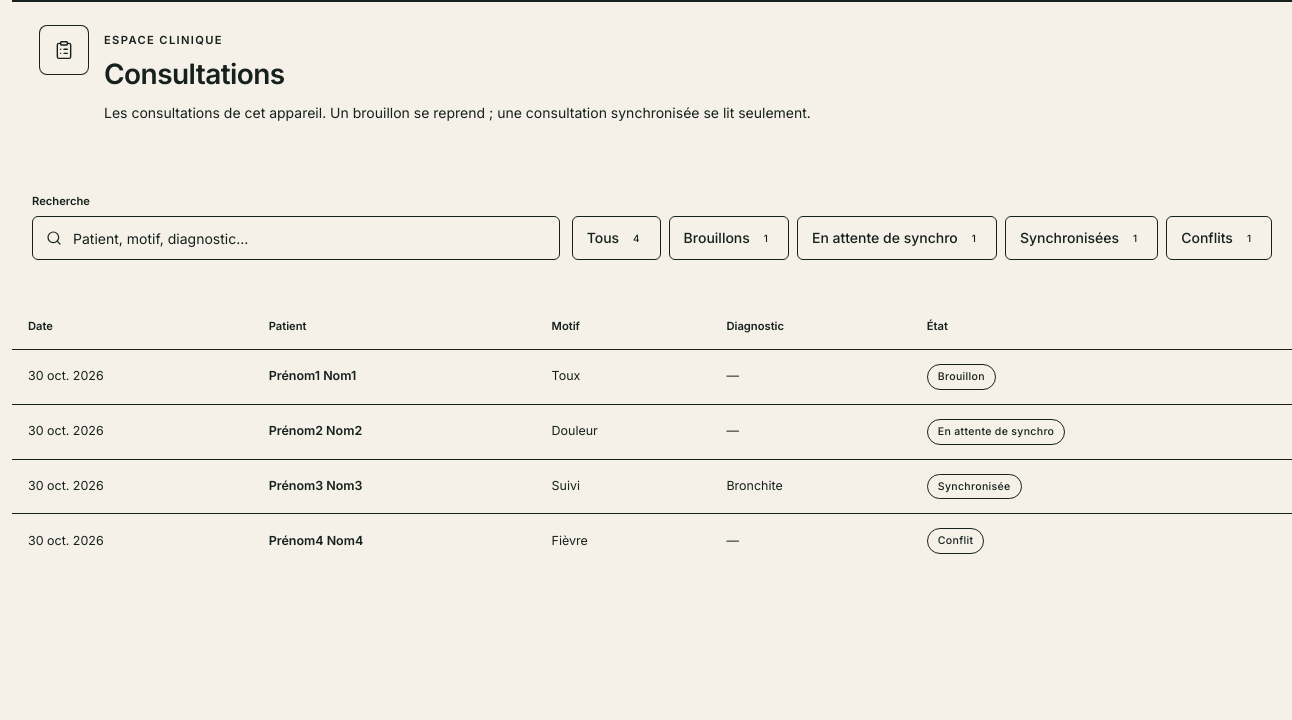
ConsultationsPage › filters by state and by search
Expected: the table is shown, x1=12 y1=304 x2=1291 y2=568
Click the button "Conflits 1" at (1219, 238), box x1=1166 y1=216 x2=1272 y2=260
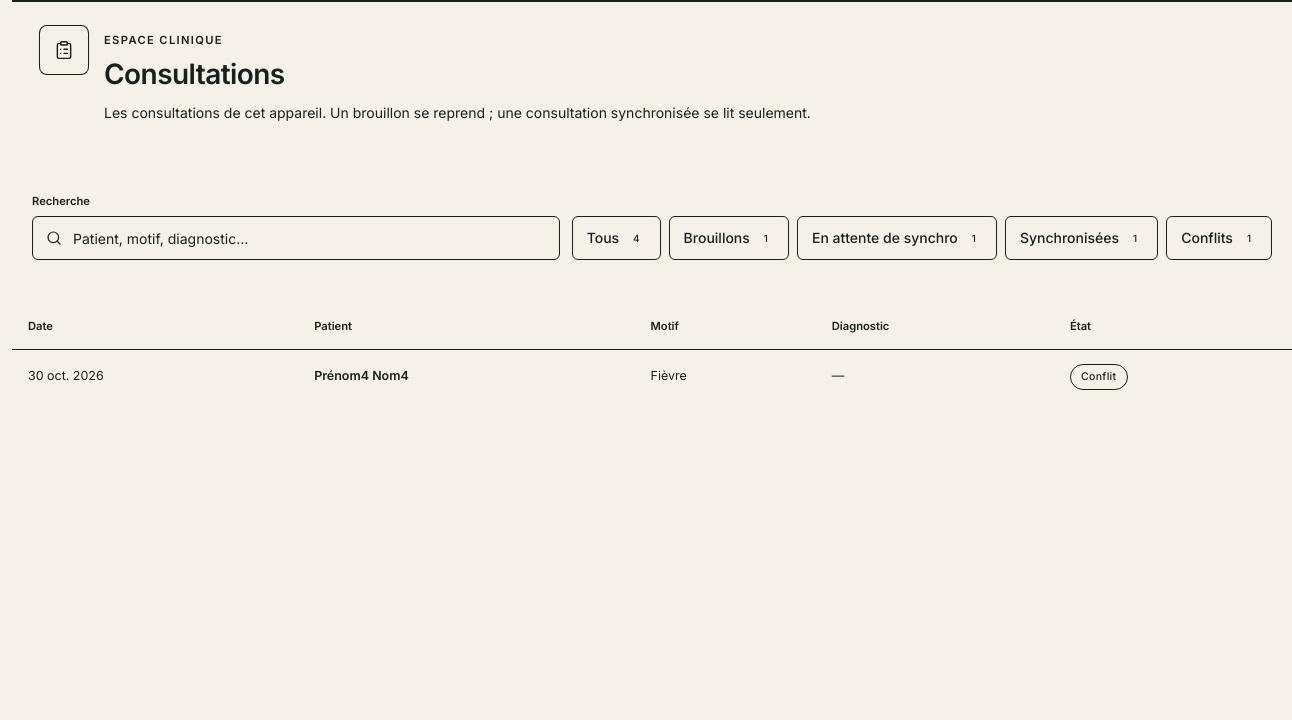
Expected: the text "Conflit" is shown, x1=1070 y1=364 x2=1128 y2=390
Click the button "Tous 4" at (616, 238), box x1=572 y1=216 x2=661 y2=260
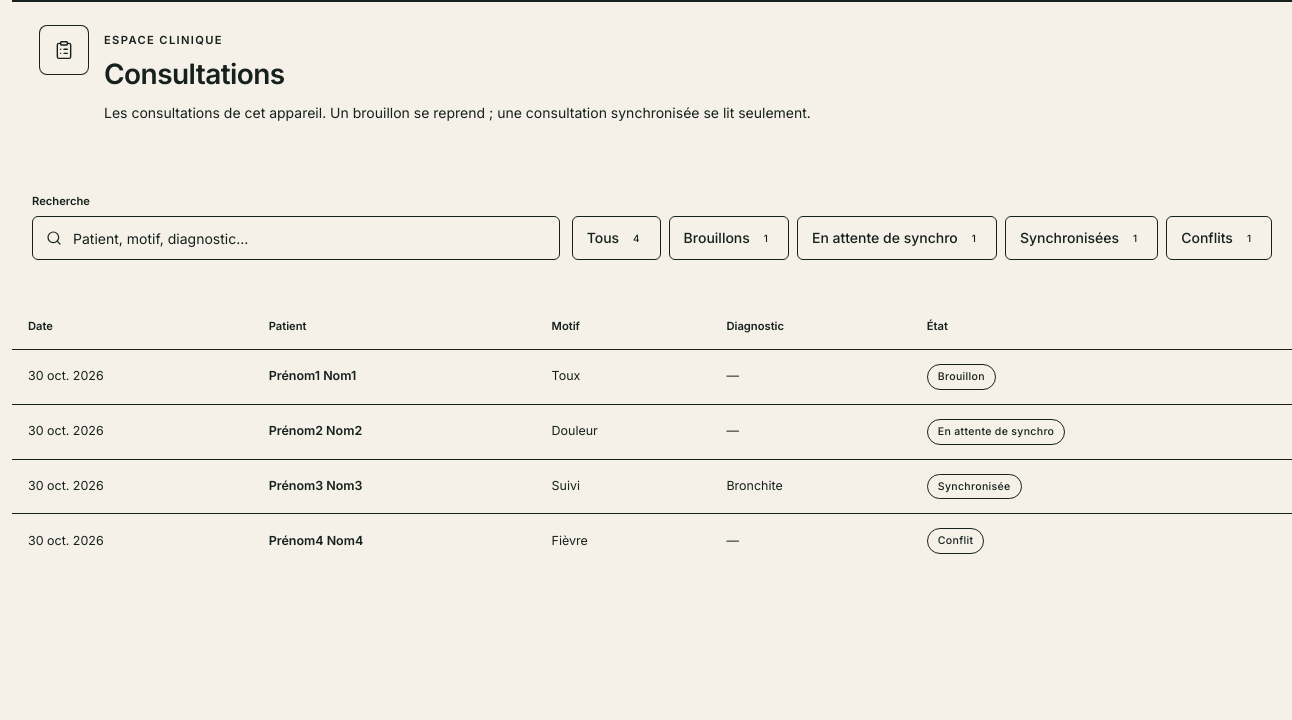
Type "prénom3" into the search field with placeholder "Patient, motif, diagnostic…" at (296, 238), box x1=32 y1=216 x2=560 y2=260
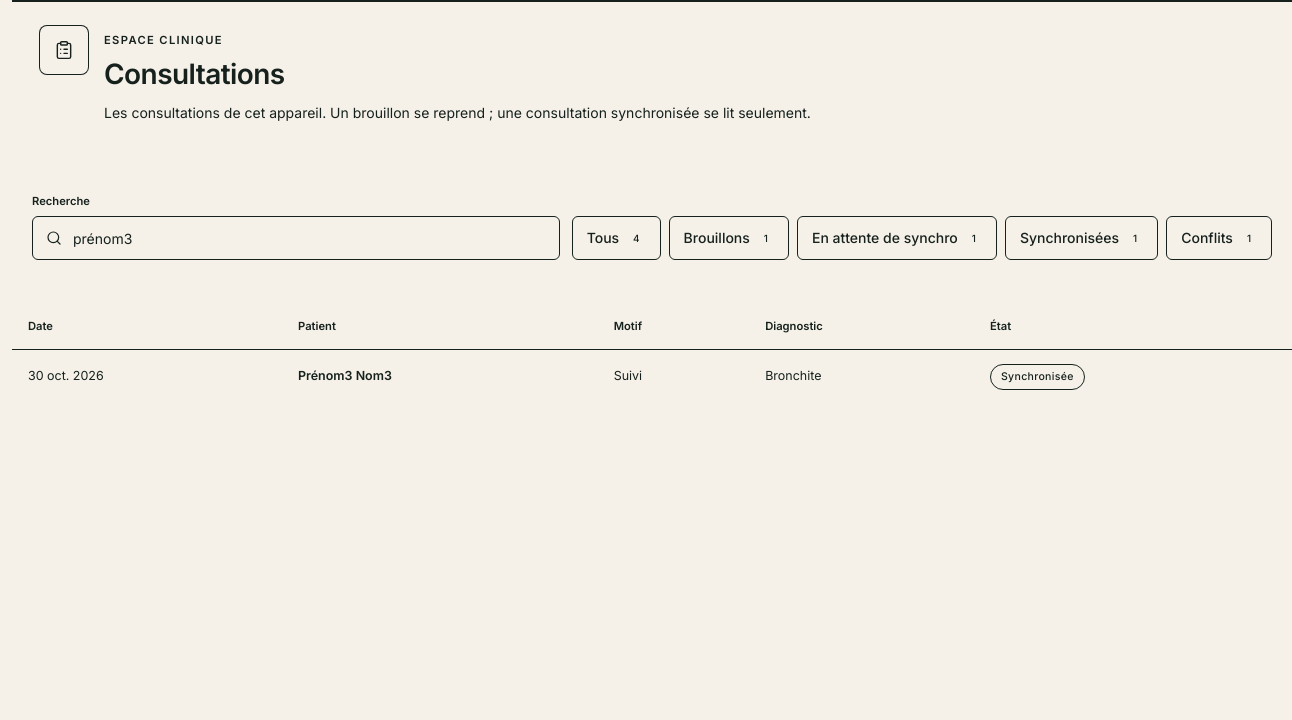
Expected: the text "Synchronisée" is shown, x1=990 y1=364 x2=1085 y2=390
Replace the text in the search field with placeholder "Patient, motif, diagnostic…" with "zzz" at (296, 238), box x1=32 y1=216 x2=560 y2=260
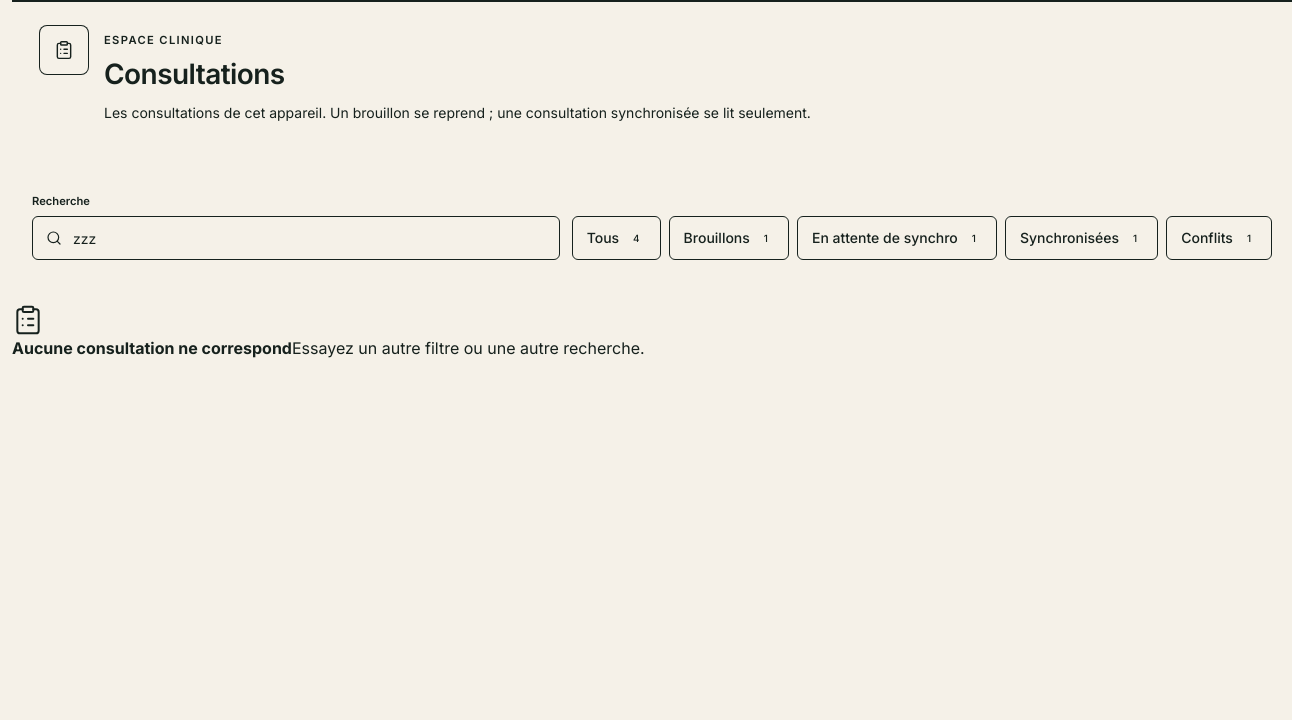
Expected: the text "Aucune consultation ne correspond" is shown, x1=12 y1=338 x2=292 y2=358
